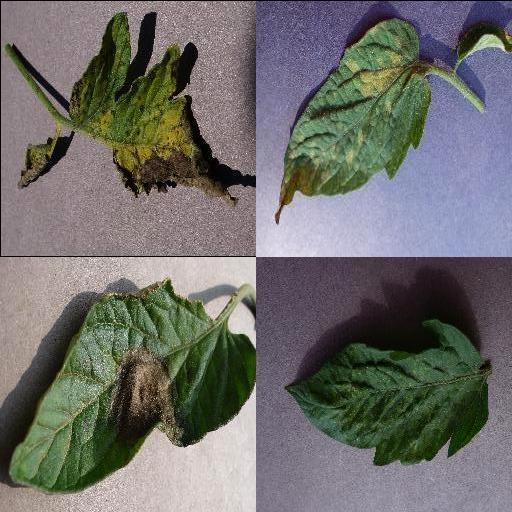Late Blight: (8, 277, 256, 493)
Leaf Mold: (275, 16, 433, 220)
Septoria: (68, 11, 238, 208)
Spider Mites: (285, 317, 489, 465)
